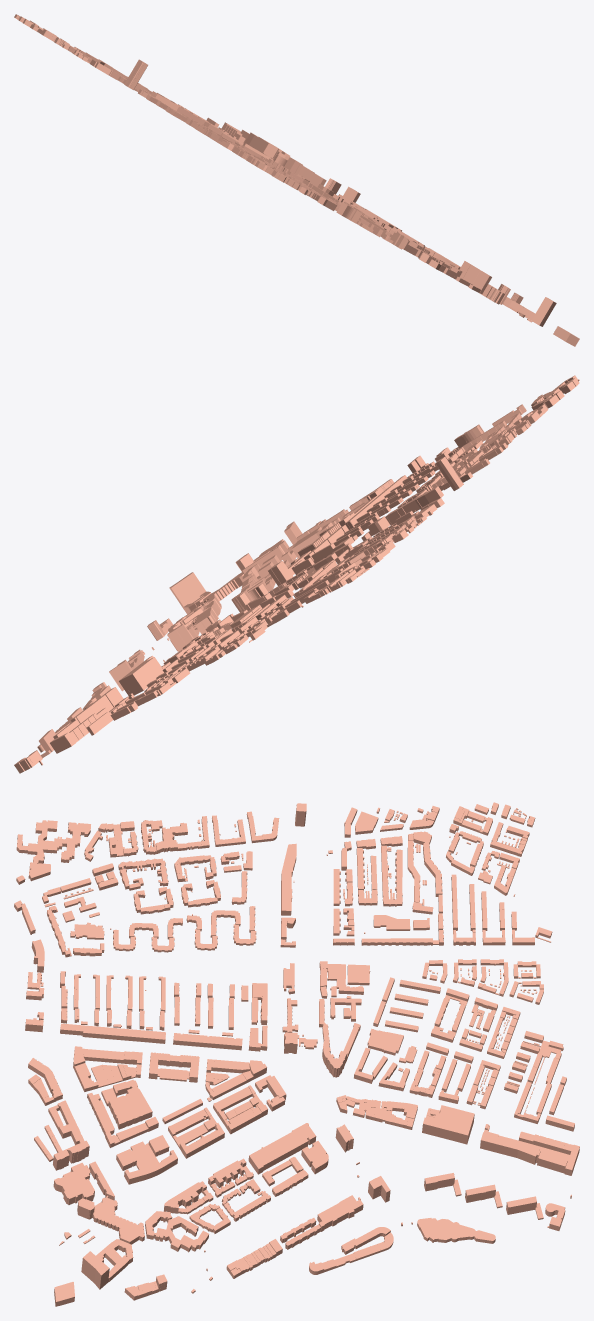
The picture shows the model from 3 angles, top to bottom: view 1: azimuth 30°, elevation 25°; view 2: azimuth 150°, elevation 25°; view 3: azimuth 270°, elevation 25°; orthographic projection. The views are drawn at different scales.
Bounding box in the file's own units: 1062 × 800 × 1267.
